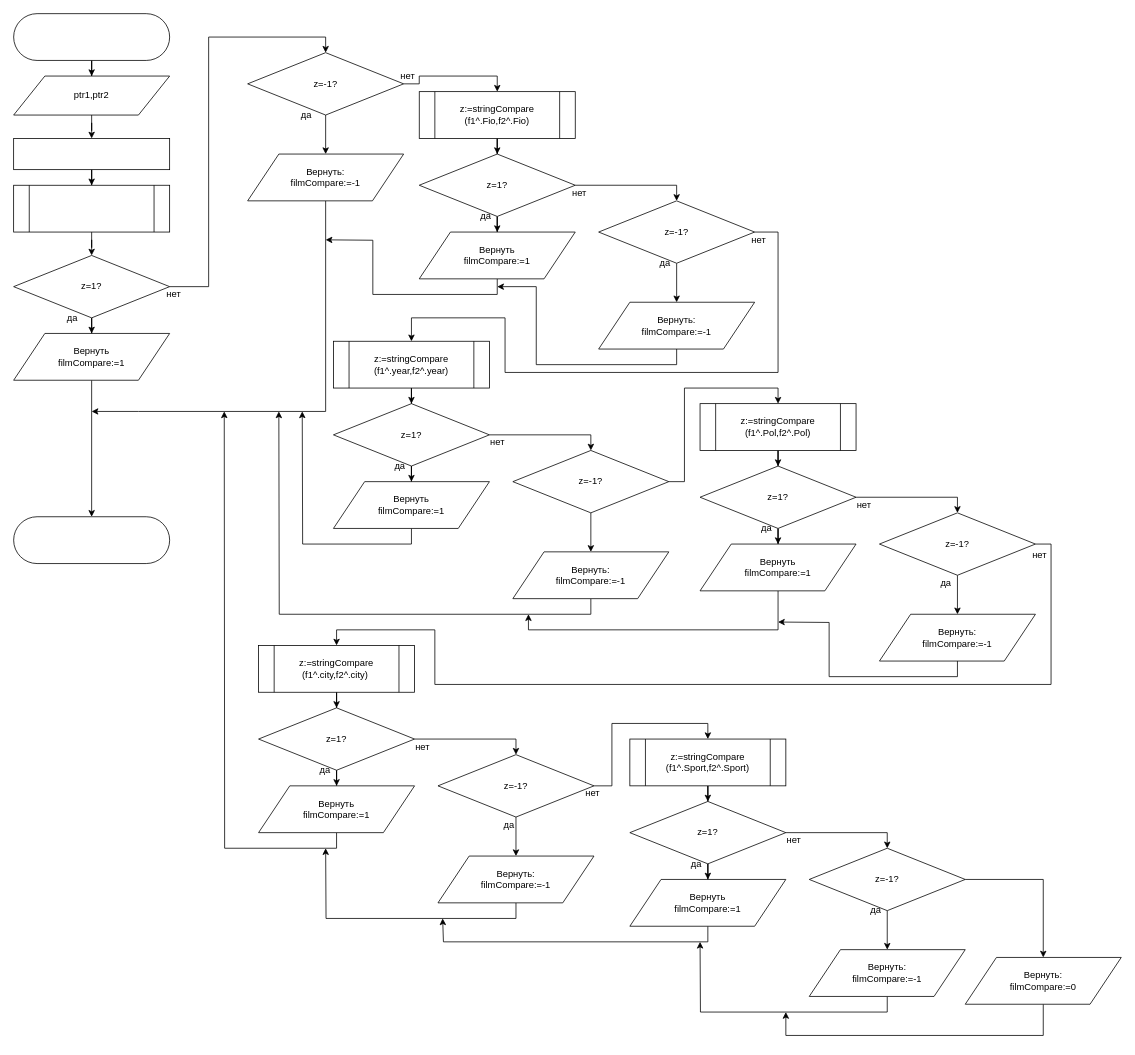
The diagram is 1135 pixels wide and 1055 high, and some of its shapes have lost their labels. The centre of each missing label's shape, as x and y in pixels:
"f1:= ptr1; f2:= ptr2;" goes at [91,154].
"filmCompare Начало" goes at [91,36].
"z:=stringCompare (f1^.Name,f2^.Name)" goes at [91,208].
"Конец" goes at [91,540].
